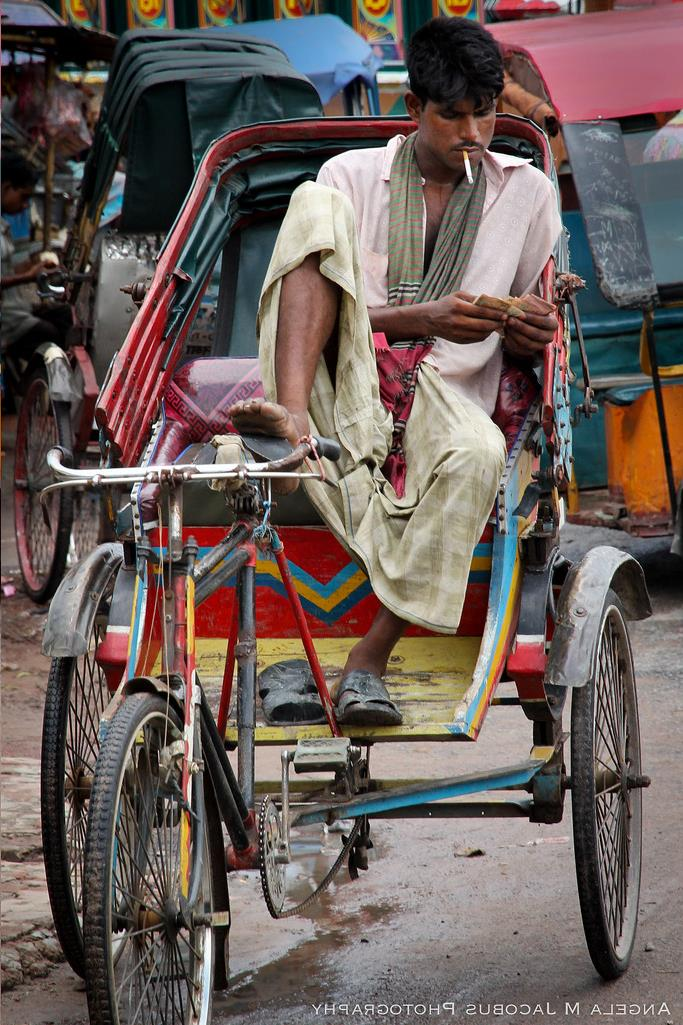Rickshaw: (155, 124, 638, 1009), (42, 24, 314, 550)
